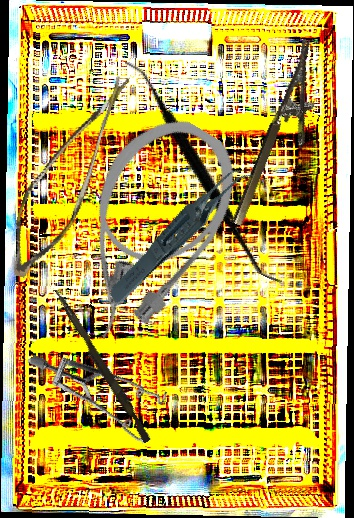Cannula: (32, 99, 259, 360)
Micro Scissor: (0, 54, 132, 291)
Needle Holder: (229, 38, 341, 237)
Pusher: (48, 288, 155, 444)
Spatula Surgical: (67, 59, 340, 285)
Speculum: (26, 307, 183, 473)
Tissue Forceps: (88, 162, 276, 307)
